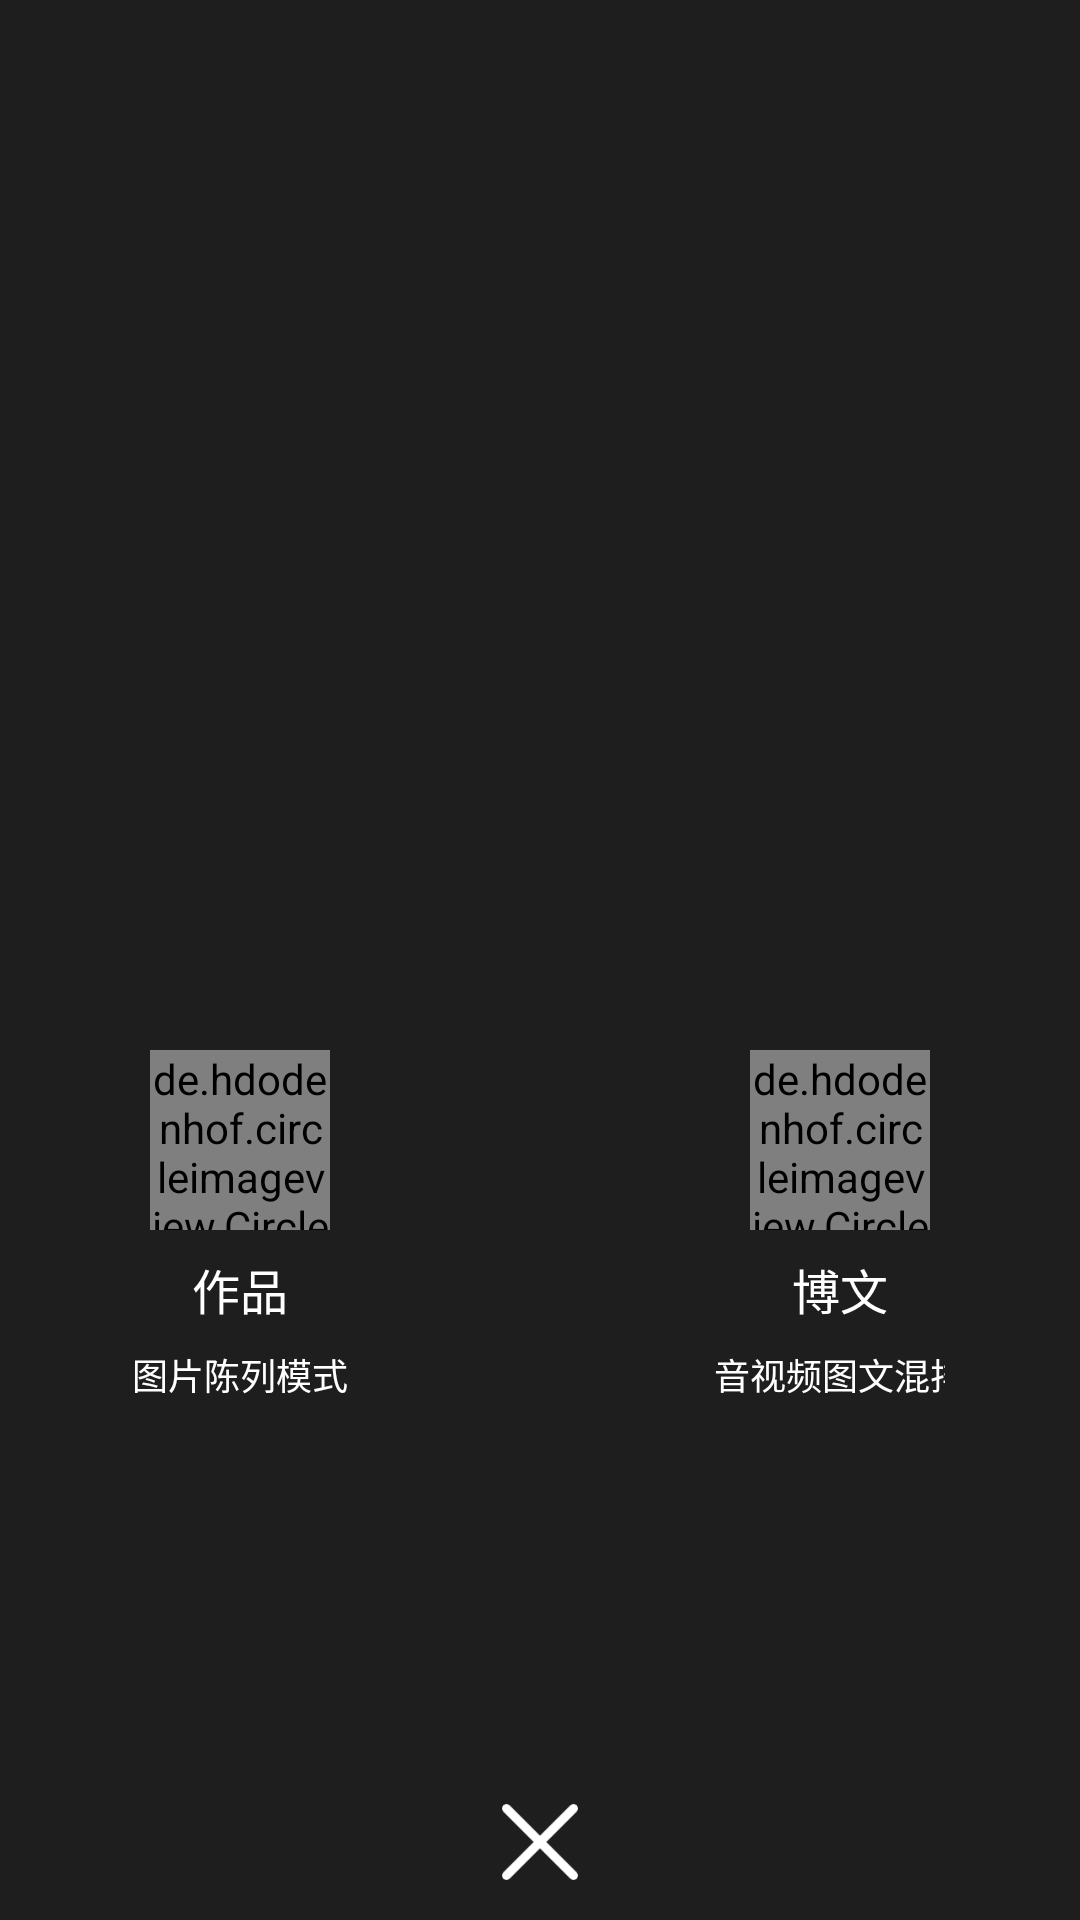

Where to tap for icons on this 1080×1920 app screen, as [x,y]:
conceal: [540,1842]
